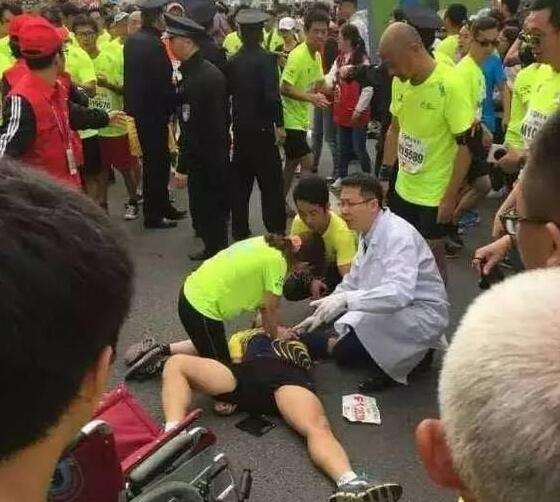10+: (2, 1, 560, 502)
down: (154, 321, 403, 497)
